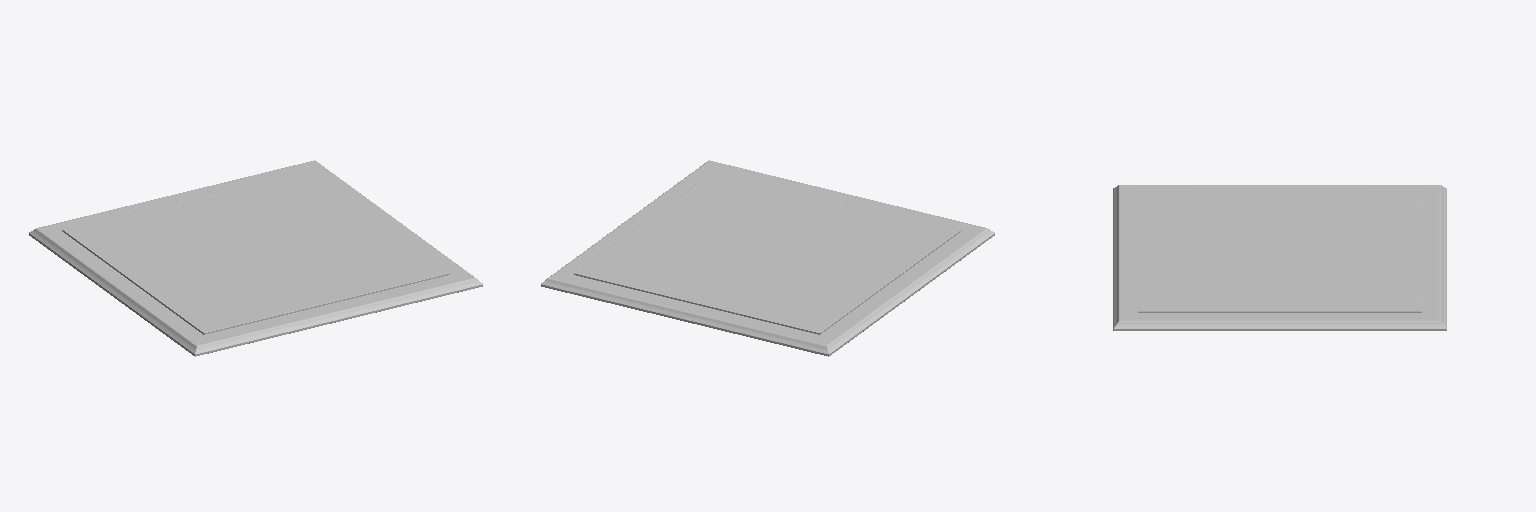
File: 12951_Stone_Chess_Board_v1_L3.obj
The picture shows the model from 3 angles: view 1: azimuth 30°, elevation 25°; view 2: azimuth 150°, elevation 25°; view 3: azimuth 270°, elevation 25°; orthographic projection.
Visible parts, largest first — view 1: 12951_Stone_Chess_Board Mesh; view 2: 12951_Stone_Chess_Board Mesh; view 3: 12951_Stone_Chess_Board Mesh.
Part boxes in pixels (left/top/right/bottom): 12951_Stone_Chess_Board Mesh: left=29, top=160, right=482, bottom=356; 12951_Stone_Chess_Board Mesh: left=541, top=160, right=994, bottom=356; 12951_Stone_Chess_Board Mesh: left=1113, top=185, right=1446, bottom=330.
Bounding box in the file's own units: 50.8 × 1.58 × 50.8.